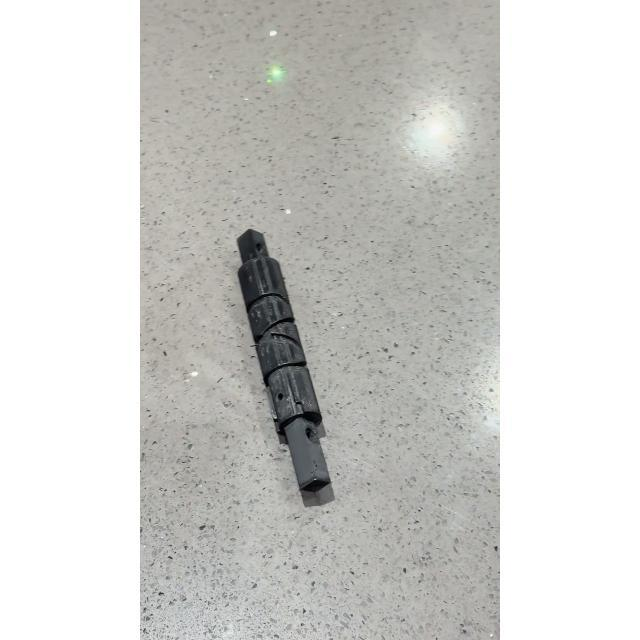Pieza1: (218, 215, 370, 509)
